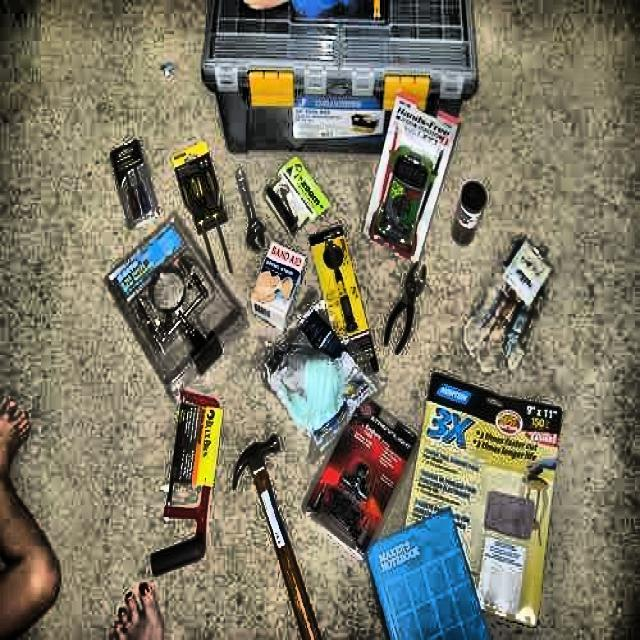hammer: (232, 433, 330, 639)
